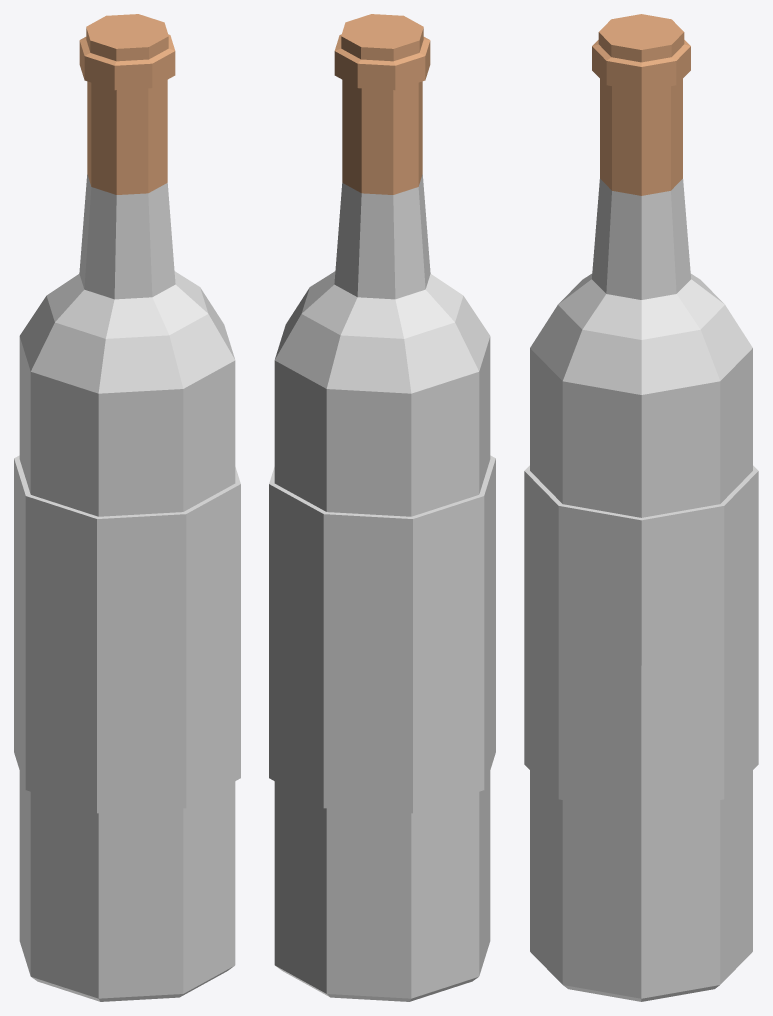
The model's file is Botella_2.fbx.
3 views of the same model, side by side, from view 1: azimuth 30°, elevation 25°; view 2: azimuth 150°, elevation 25°; view 3: azimuth 270°, elevation 25° (orthographic).
Parts seen in each view (by area): view 1: Botella_2; view 2: Botella_2; view 3: Botella_2.
Boxes of the visible parts, bbox=[...] form: Botella_2: bbox=[14, 14, 240, 1001]; Botella_2: bbox=[269, 14, 495, 1001]; Botella_2: bbox=[524, 14, 758, 1001].
Bounding box in the file's own units: 48.38 × 211 × 48.38.
